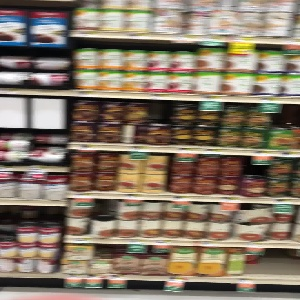void: (249, 249, 300, 279)
